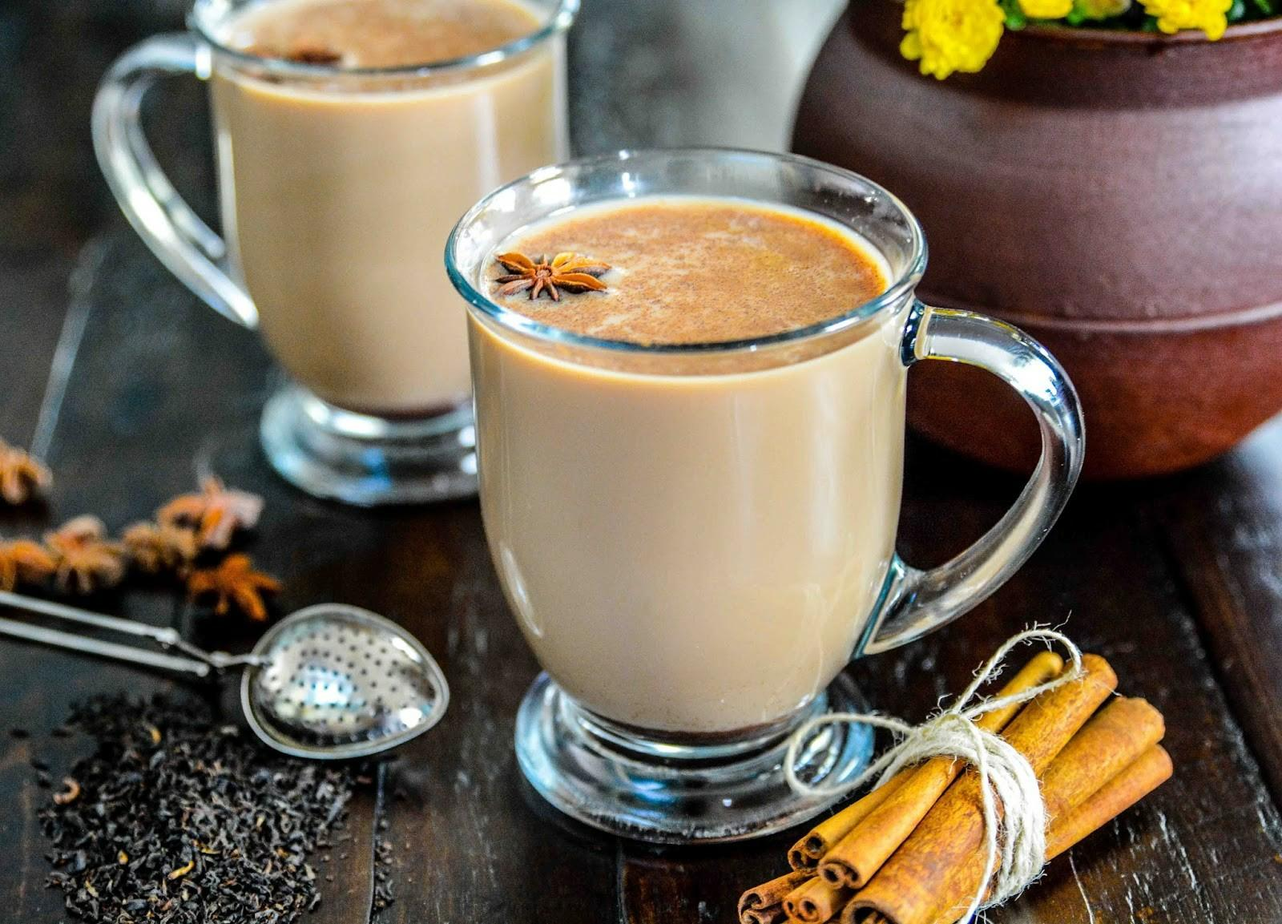Chai: (479, 202, 887, 729), (223, 12, 572, 426)
